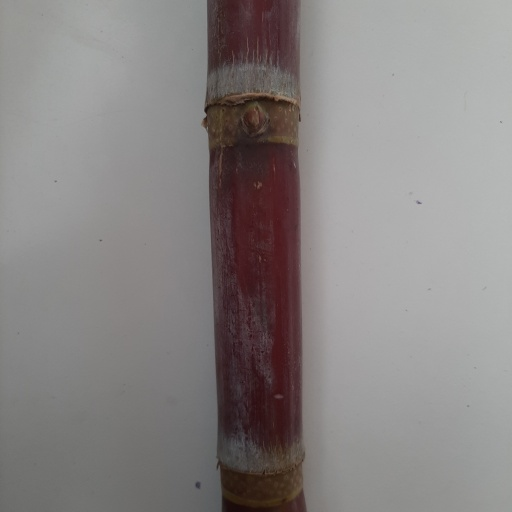Bud: (239, 98, 269, 140)
